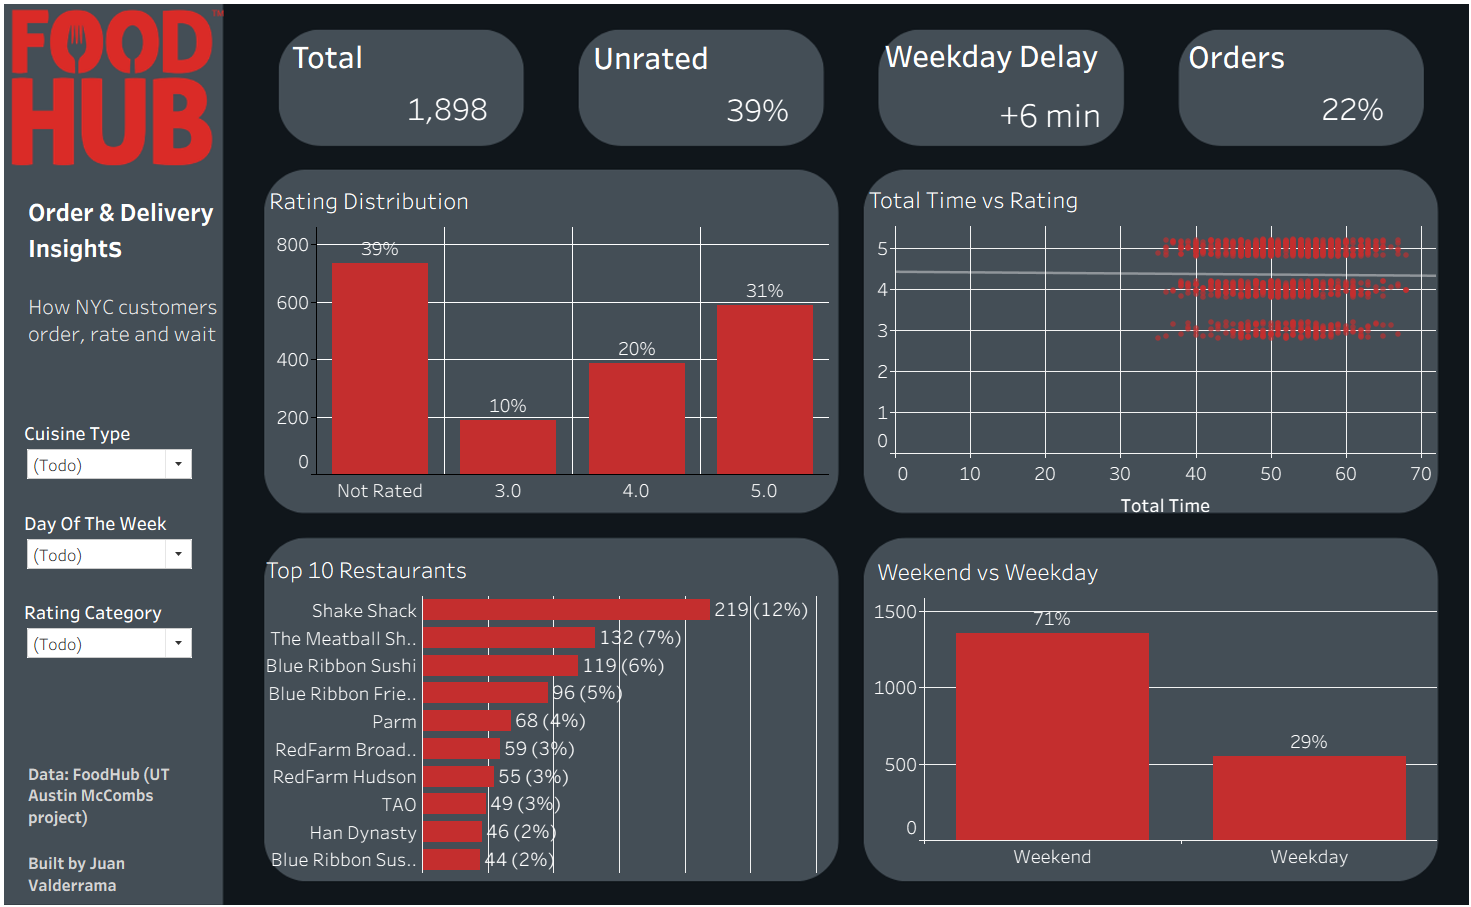

The dashboard page shown, as its layout file describes it:
{"tool":"tableau","page":{"name":"Foodhub dashboard","canvas":[1604,926],"ordinal":0},"visuals":[{"type":"image","param":"Image/Diseño sin título (3).png","box":[8,8,1588,910]},{"type":"worksheet","title":"KPI_Weekday_Delay","mark":"Automatic","box":[945,38,225,114]},{"type":"worksheet","title":"KPI_Total_Orders","mark":"Automatic","box":[353,39,204,100]},{"type":"worksheet","title":"KPI_Weekday_Over60","mark":"Automatic","box":[1249,39,204,100]},{"type":"worksheet","title":"KPI_Unrated_Percent","mark":"Automatic","box":[654,40,204,100]},{"type":"worksheet","title":"Total Time vs Rating: No Correlation","mark":"Circle","rows":["Calculation_0645752593903622"],"cols":["total_time"],"box":[930,188,571,344]},{"type":"worksheet","title":"Rating Distribution","mark":"Automatic","rows":["order_id"],"cols":["Calculation_0645752587198467"],"box":[330.2,189,563.5,322]},{"type":"text","box":[89,191,213,94]},{"type":"text","box":[89,281,213,94]},{"type":"filter","title":"Rating Distribution","param":"[federated.0aj1xkf1ifbjzp1f3aklh12p20zg].[none:cuisine_type:nk]","box":[89,428,171,70]},{"type":"filter","title":"Rating Distribution","param":"[federated.0aj1xkf1ifbjzp1f3aklh12p20zg].[none:day_of_the_week:nk]","box":[89,518,171,70]},{"type":"worksheet","title":"Top 10 Restaurants","mark":"Automatic","rows":["restaurant_name"],"cols":["order_id"],"box":[327.1,558,565.6,323]},{"type":"worksheet","title":"Weekend vs Weekday","mark":"Automatic","rows":["order_id"],"cols":["day_of_the_week"],"box":[937.5,560,564.6,317]},{"type":"filter","title":"Rating Distribution","param":"[federated.0aj1xkf1ifbjzp1f3aklh12p20zg].[none:Calculation_0645752587198467:nk]","box":[89,607,171,70]},{"type":"text","box":[89,769,195,138]}]}

Visuals, with their boxes on the page's 1604x926 design canvas (x1, y1, x2, y2). These are canvas units, not pixel positions in the 1471x907 screenshot, which may show the page scaled, cropped or inside an application window:
image: [8, 8, 1596, 918]
"KPI_Weekday_Delay" worksheet: [945, 38, 1170, 152]
"KPI_Total_Orders" worksheet: [353, 39, 557, 139]
"KPI_Weekday_Over60" worksheet: [1249, 39, 1453, 139]
"KPI_Unrated_Percent" worksheet: [654, 40, 858, 140]
"Total Time vs Rating: No Correlation" worksheet (Circle marks): [930, 188, 1501, 532]
"Rating Distribution" worksheet: [330, 189, 894, 511]
text: [89, 191, 302, 285]
text: [89, 281, 302, 375]
"Rating Distribution" filter: [89, 428, 260, 498]
"Rating Distribution" filter: [89, 518, 260, 588]
"Top 10 Restaurants" worksheet: [327, 558, 893, 881]
"Weekend vs Weekday" worksheet: [938, 560, 1502, 877]
"Rating Distribution" filter: [89, 607, 260, 677]
text: [89, 769, 284, 907]
